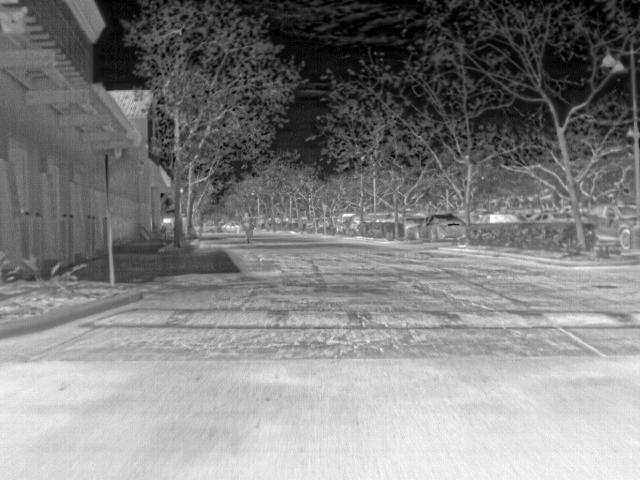car: (589, 204, 639, 250), (418, 212, 465, 240), (477, 211, 520, 225), (536, 211, 573, 224), (402, 213, 422, 226), (223, 222, 242, 234), (523, 210, 541, 222), (376, 212, 395, 223), (203, 222, 220, 234), (336, 214, 353, 226), (346, 215, 362, 226), (362, 213, 375, 225)
person: (245, 213, 253, 227)
